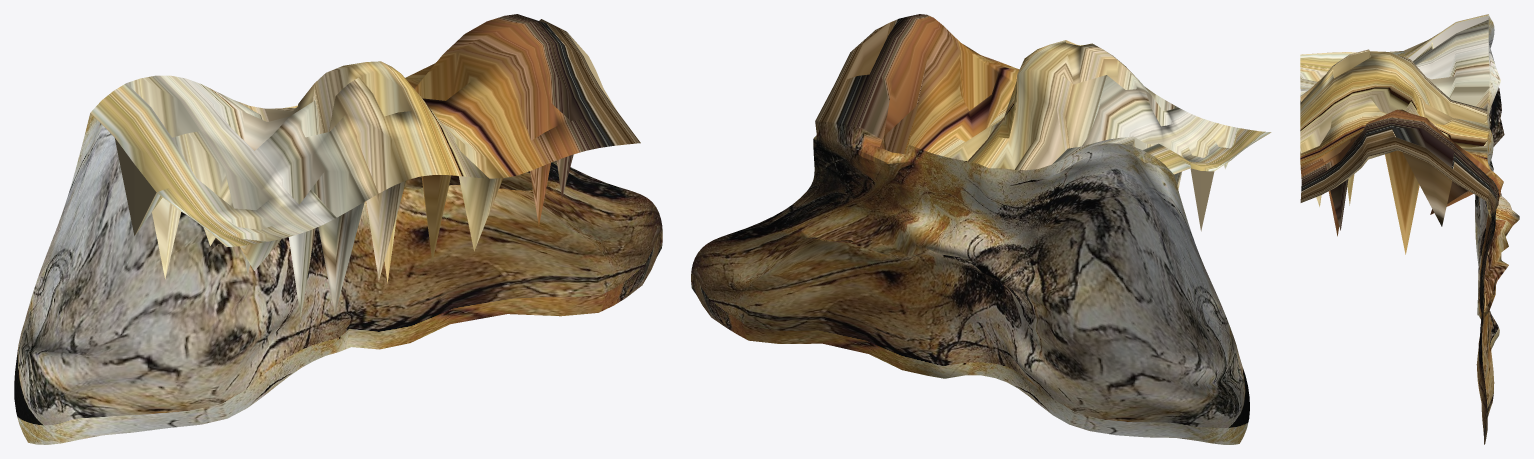
File: cave_0.fbx
3 renders of one model, left to right at view 1: azimuth 30°, elevation 25°; view 2: azimuth 150°, elevation 25°; view 3: azimuth 270°, elevation 25°, orthographic. The views are drawn at different scales.
Visible parts, largest first — view 1: pPlane1; view 2: pPlane1; view 3: pPlane1.
Boxes of the visible parts, left/top/right/bottom form: pPlane1: left=14, top=14, right=662, bottom=444; pPlane1: left=691, top=14, right=1271, bottom=444; pPlane1: left=1300, top=14, right=1519, bottom=444.
Bounding box in the file's own units: 32.74 × 18.22 × 12.75.
1 material, 1 textured.
